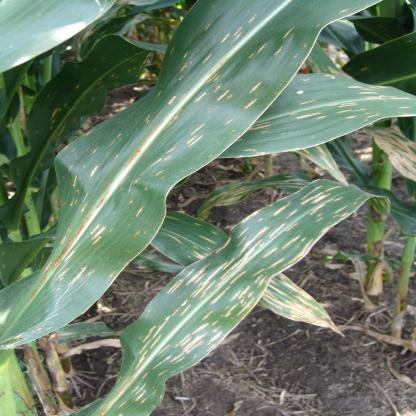Corn leaf blight: (12, 1, 396, 336), (81, 186, 380, 416), (5, 29, 172, 208), (220, 70, 414, 166)
